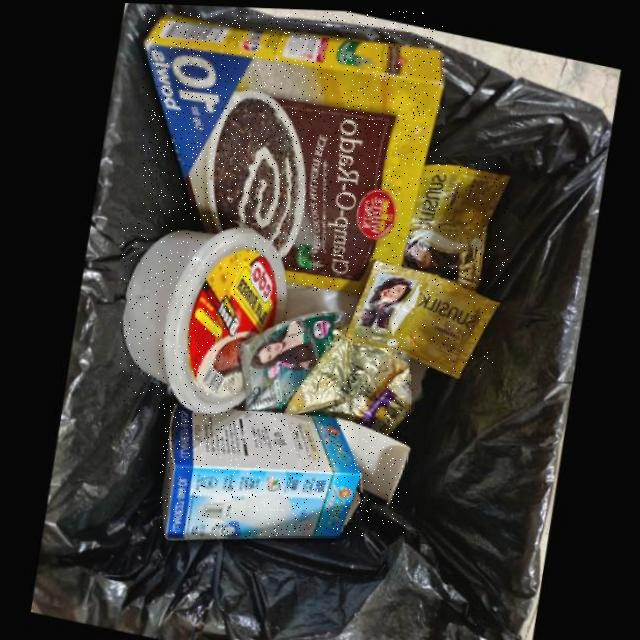paper: (144, 11, 444, 291), (160, 400, 407, 537)
plastic: (120, 224, 285, 412)
wrapper: (343, 257, 498, 374), (283, 322, 410, 432), (400, 159, 509, 287), (237, 306, 344, 411)
